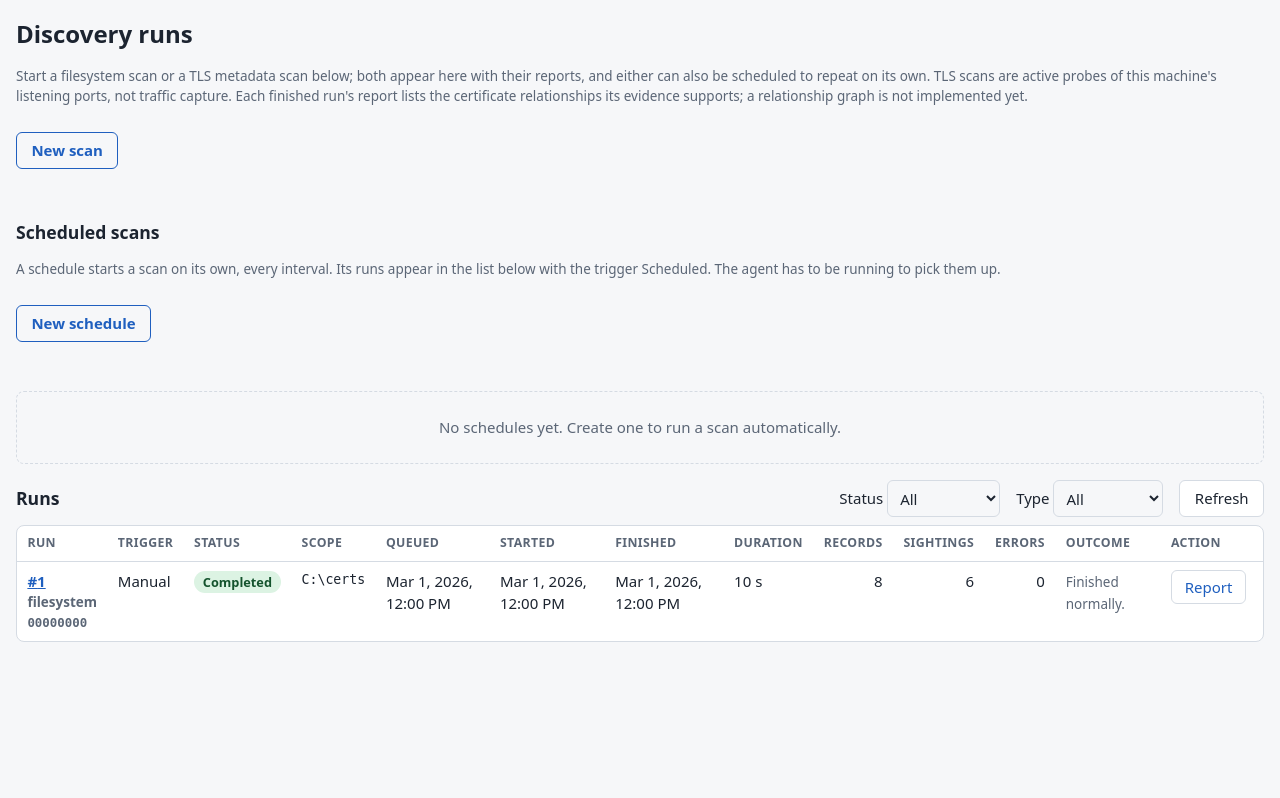
Test: the scan form does not dominate the page › is tucked away once there are runs, so the list is what you see, and can be opened again
The width and height of the screenshot is (1280, 798).
Expected: the table is shown, x1=17 y1=526 x2=1263 y2=641
Click the heading "New scan" at point(67, 150), box x1=16 y1=132 x2=118 y2=169
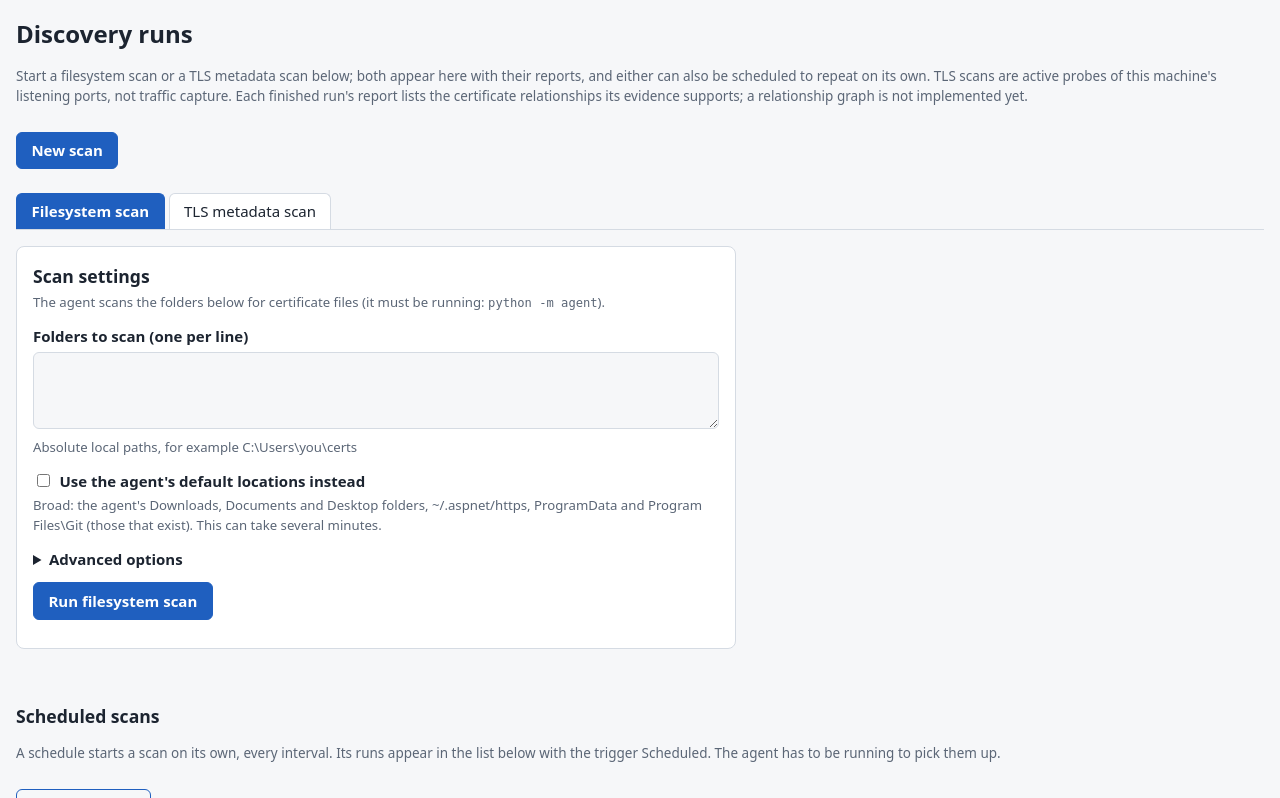
Now the text box labelled "Folders to scan (one per line)" is shown, box x1=33 y1=352 x2=719 y2=429
